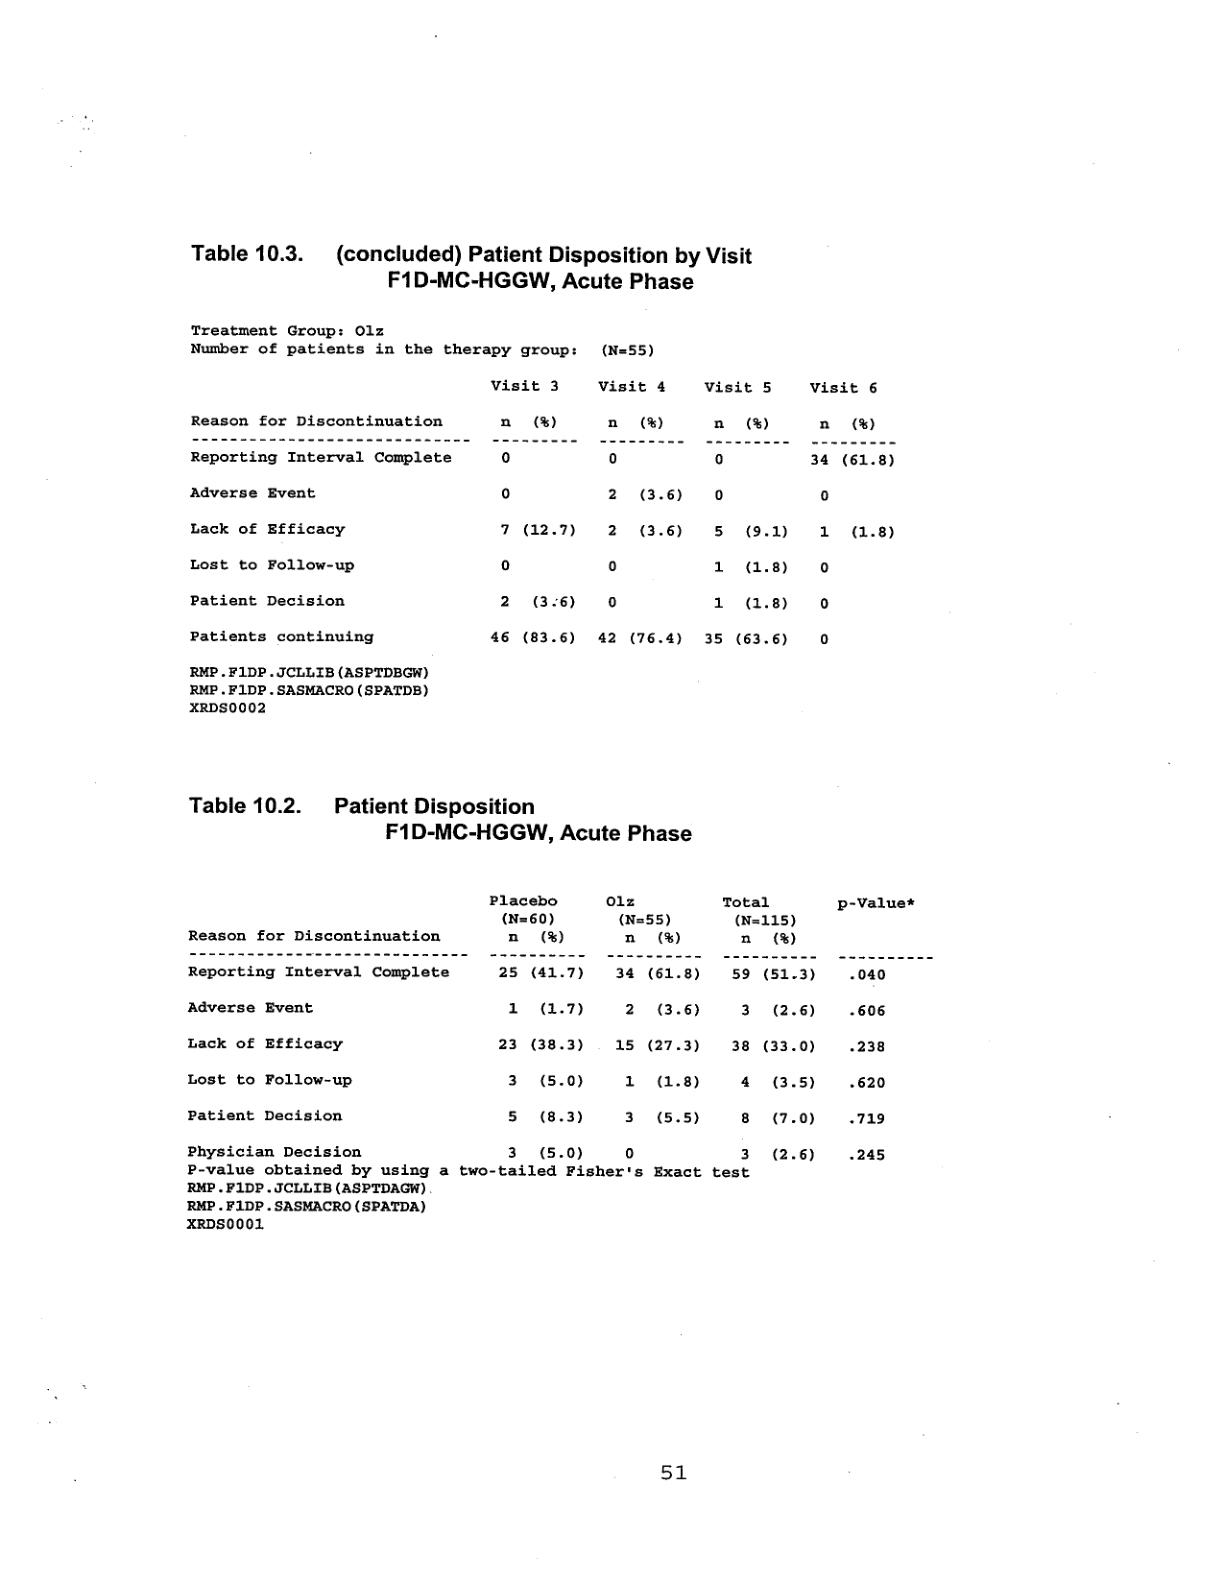nolines: (188, 894, 934, 1163), (188, 378, 898, 648)
